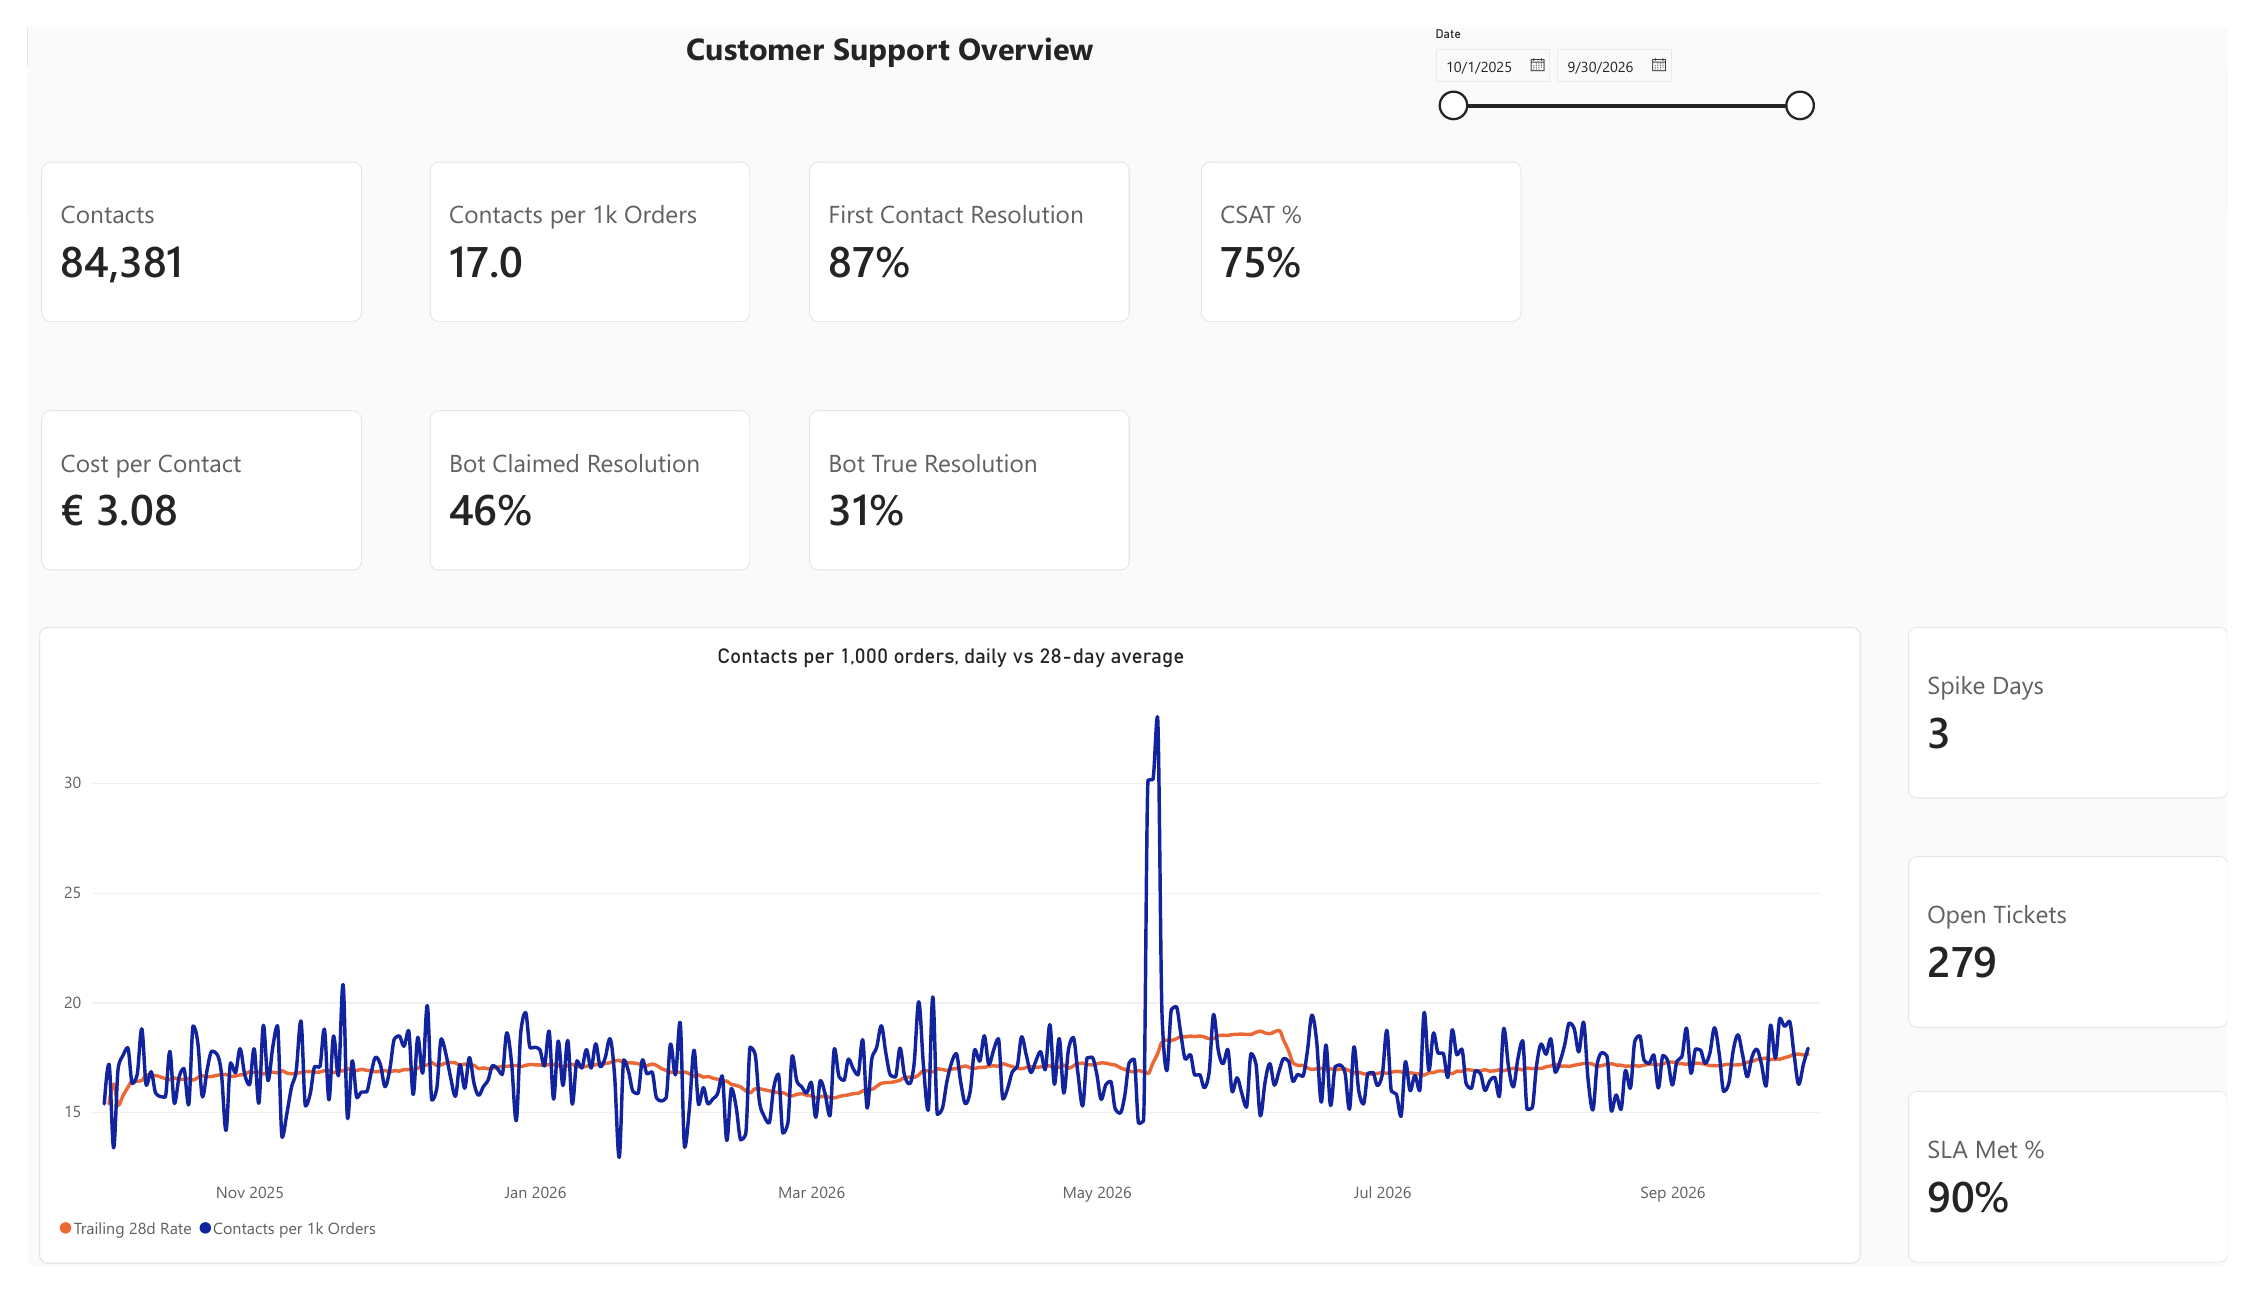

The page's visual inventory and layout, read from the dashboard file:
{"tool":"powerbi","page":{"name":"Overview","canvas":[1920,1080],"ordinal":0},"visuals":[{"type":"cardVisual","fields":{"Data":["_measures (2).Contacts"]},"box":[11.9,116.9,280,140],"z":0},{"type":"cardVisual","fields":{"Data":["_measures (2).Contacts per 1k Orders"]},"box":[350.7,116.9,280,140],"z":1000},{"type":"cardVisual","fields":{"Data":["_measures (2).CSAT %"]},"box":[1024.4,117.1,280,140],"z":2000},{"type":"cardVisual","fields":{"Data":["_measures (2).First Contact Resolution"]},"box":[682.4,116.9,280,140],"z":3000},{"type":"cardVisual","fields":{"Data":["_measures (2).Cost per Contact"]},"box":[12.2,334.1,280,140],"z":4000},{"type":"cardVisual","fields":{"Data":["_measures (2).Bot Claimed Resolution"]},"box":[351.2,334.1,280,140],"z":5000},{"type":"cardVisual","fields":{"Data":["_measures (2).Bot True Resolution"]},"box":[681.6,334.2,280,140],"z":6000},{"type":"textbox","box":[257.7,0,990.2,74],"z":7000},{"type":"slicer","fields":{"Values":["Dates.Date"]},"box":[1221.1,0,342.1,115.8],"z":8000},{"type":"lineChart","title":"Contacts per 1,000 orders, daily vs 28-day average","fields":{"Category":["Dates.Date"],"Y":["_measures (2).Trailing 28d Rate","_measures (2).Contacts per 1k Orders"]},"box":[10.3,523.1,1589.7,556.4],"z":9000},{"type":"cardVisual","fields":{"Data":["_measures (2).Spike Days"]},"box":[1641,523.1,280,150],"z":10000},{"type":"cardVisual","fields":{"Data":["_measures (2).Open Tickets"]},"box":[1641,723.1,280,150],"z":11000},{"type":"cardVisual","fields":{"Data":["_measures (2).SLA Met %"]},"box":[1641,928.2,280,150],"z":12000}]}

Visuals, with their boxes in screenshot pixels (x1, y1, x2, y2), scaled from the page's 1920x1080 canvas onto the 2255x1293 screenshot:
cardVisual - _measures (2).Contacts: detection(14, 140, 343, 308)
cardVisual - _measures (2).Contacts per 1k Orders: detection(412, 140, 741, 308)
cardVisual - _measures (2).CSAT %: detection(1203, 140, 1532, 308)
cardVisual - _measures (2).First Contact Resolution: detection(801, 140, 1130, 308)
cardVisual - _measures (2).Cost per Contact: detection(14, 400, 343, 568)
cardVisual - _measures (2).Bot Claimed Resolution: detection(412, 400, 741, 568)
cardVisual - _measures (2).Bot True Resolution: detection(801, 400, 1129, 568)
textbox: detection(303, 0, 1466, 89)
slicer - Dates.Date: detection(1434, 0, 1836, 139)
"Contacts per 1,000 orders, daily vs 28-day average" lineChart: detection(12, 626, 1879, 1292)
cardVisual - _measures (2).Spike Days: detection(1927, 626, 2254, 806)
cardVisual - _measures (2).Open Tickets: detection(1927, 866, 2254, 1045)
cardVisual - _measures (2).SLA Met %: detection(1927, 1111, 2254, 1291)
